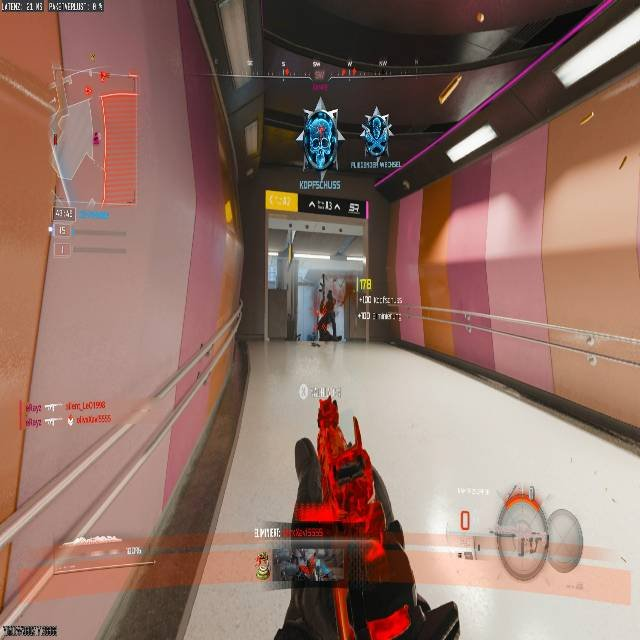player: (296, 96, 344, 182), (310, 289, 339, 347), (361, 108, 392, 162)
